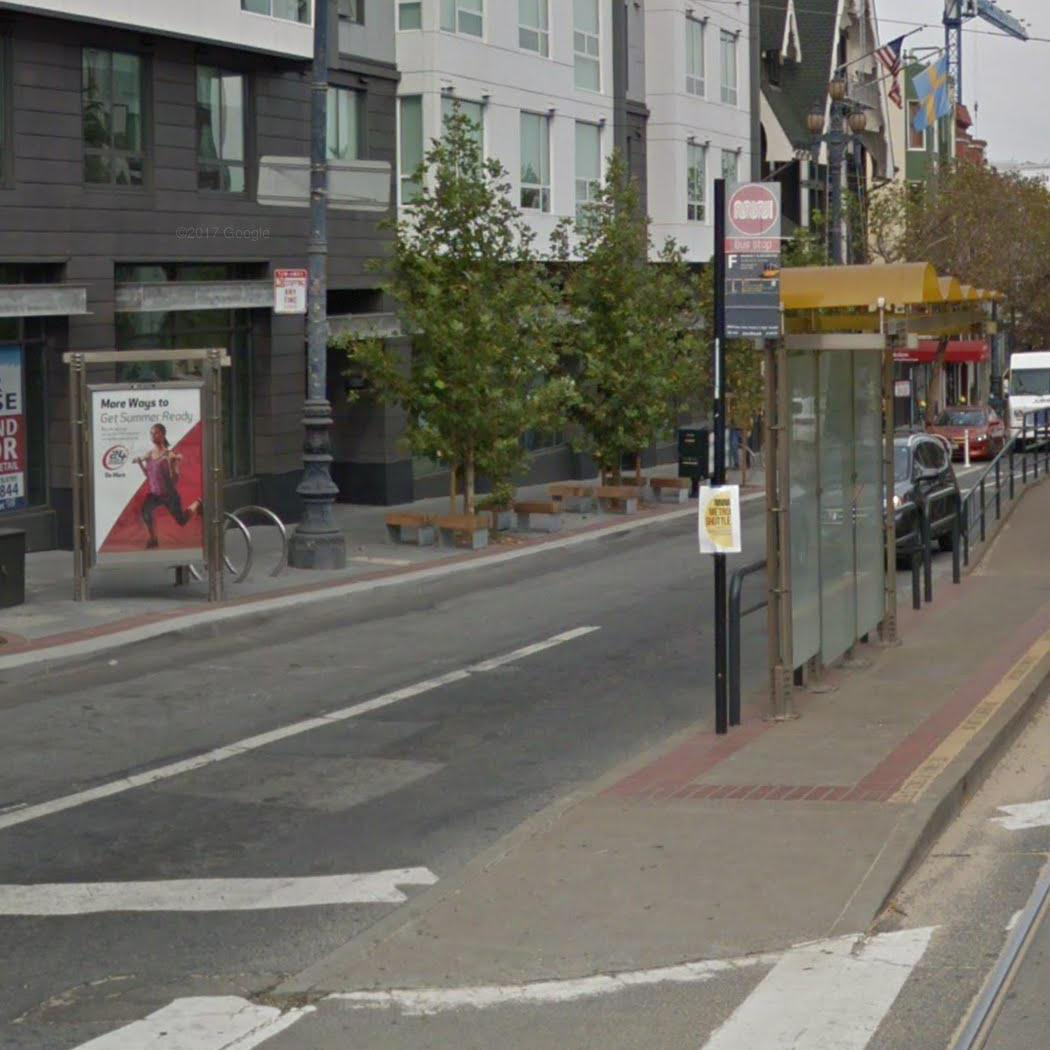No Parking Anytime: (271, 266, 309, 316)
